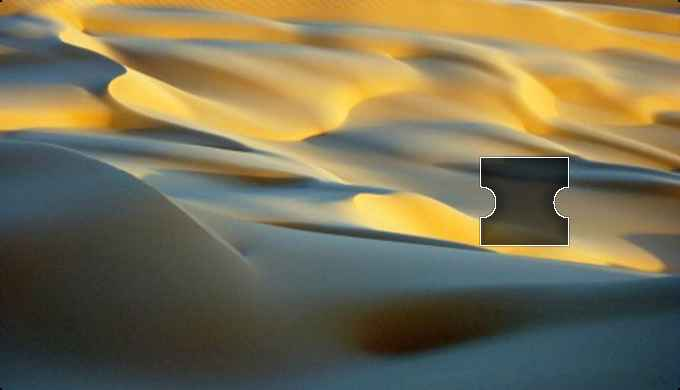gap: (479, 155, 566, 245)
